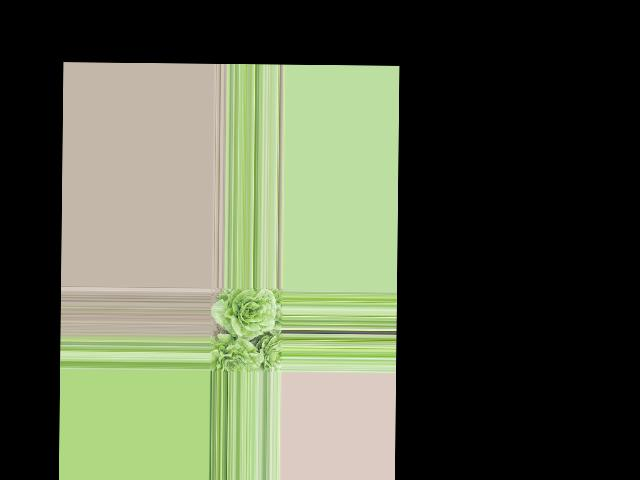lettuce: (211, 338, 264, 373)
